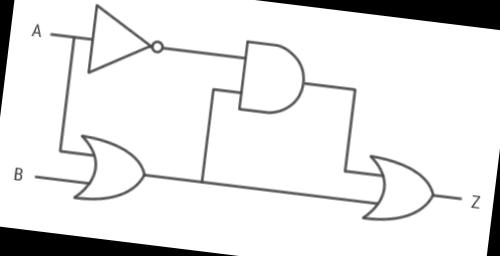and: (232, 36, 314, 122)
not: (82, 0, 172, 85)
or: (68, 130, 152, 213), (358, 150, 442, 230)
